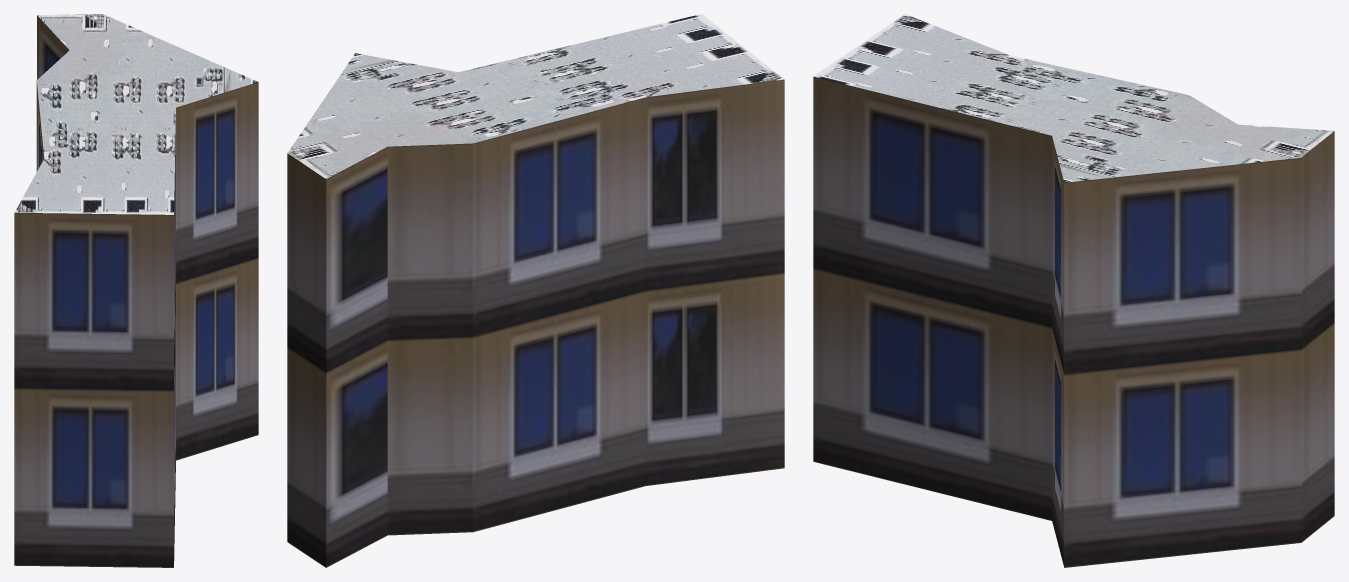
Rendered from ResTex__4651.fbx.
3 renders of one model, left to right at view 1: azimuth 30°, elevation 25°; view 2: azimuth 150°, elevation 25°; view 3: azimuth 270°, elevation 25°, orthographic. The views are drawn at different scales.
Visible parts, largest first — view 1: CityEngineMaterial_5_m, CityEngineMaterial_m; view 2: CityEngineMaterial_5_m, CityEngineMaterial_m; view 3: CityEngineMaterial_5_m, CityEngineMaterial_m.
Boxes of the visible parts, x1=… form: CityEngineMaterial_5_m: x1=14, y1=15, x2=258, y2=567; CityEngineMaterial_m: x1=14, y1=14, x2=257, y2=214; CityEngineMaterial_5_m: x1=287, y1=79, x2=784, y2=567; CityEngineMaterial_m: x1=287, y1=14, x2=784, y2=178; CityEngineMaterial_5_m: x1=813, y1=76, x2=1334, y2=567; CityEngineMaterial_m: x1=813, y1=14, x2=1333, y2=182.
Bounding box in the file's own units: 5.64 × 6 × 7.36.
2 materials, 2 textured.
